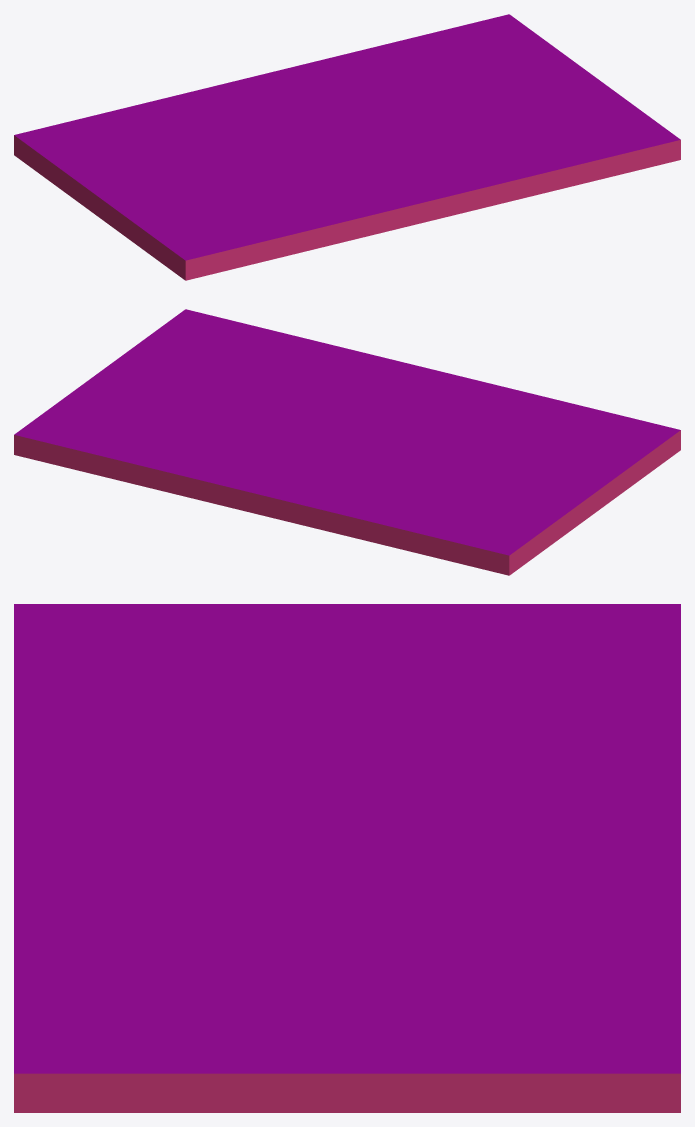
Rendered from piste_dance.fbx.
3 views of the same model, one above another, from view 1: azimuth 30°, elevation 25°; view 2: azimuth 150°, elevation 25°; view 3: azimuth 270°, elevation 25° (orthographic). The views are drawn at different scales.
Visible parts, largest first — view 1: Scene; view 2: Scene; view 3: Scene.
Boxes of the visible parts, x1=… form: Scene: x1=14, y1=14, x2=680, y2=280; Scene: x1=14, y1=309, x2=680, y2=575; Scene: x1=14, y1=604, x2=680, y2=1112.
Size of the model in its own units: 10 by 0.3886 by 6.
